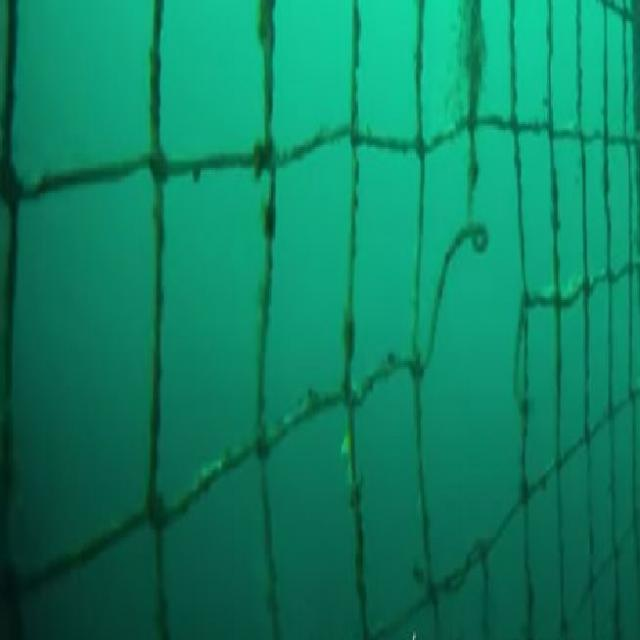fence line: (395, 112, 563, 610)
